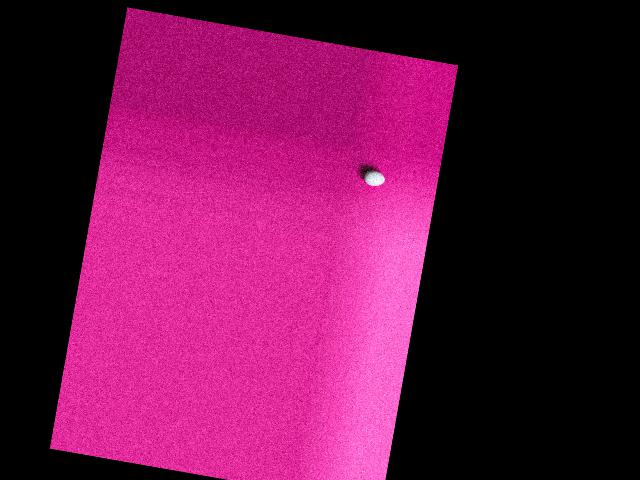egg: (362, 169, 385, 188)
